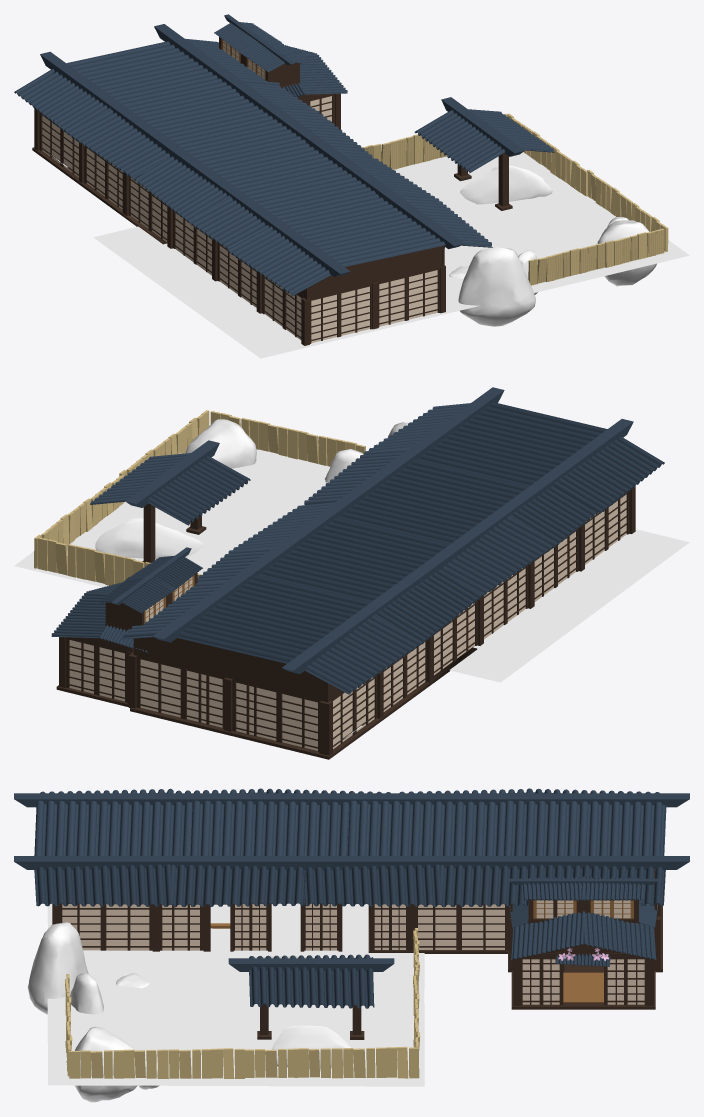
Rendered from BigOnsenHouse.fbx.
3 views of the same model, one above another, from view 1: azimuth 30°, elevation 25°; view 2: azimuth 150°, elevation 25°; view 3: azimuth 270°, elevation 25° (orthographic). The views are drawn at different scales.
Parts seen in each view (by area): view 1: BigOnsenHouse, Wate_BigOnsen_3, Wate_BigOnsen_2, Rocks_BigOnsenHouse, FenceOnsen, SmallRoof; view 2: BigOnsenHouse, Wate_BigOnsen_2, Wate_BigOnsen_3, FenceOnsen, SmallRoof, Rocks_BigOnsenHouse; view 3: BigOnsenHouse, Wate_BigOnsen_3, Wate_BigOnsen_2, FenceOnsen, Rocks_BigOnsenHouse, SmallRoof.
Boxes of the visible parts, x1,y1,x2,y2 form: BigOnsenHouse: (14, 14, 492, 345); Wate_BigOnsen_3: (393, 152, 689, 292); Wate_BigOnsen_2: (93, 226, 479, 358); Rocks_BigOnsenHouse: (449, 165, 656, 326); FenceOnsen: (361, 113, 668, 285); SmallRoof: (414, 97, 554, 210); BigOnsenHouse: (51, 387, 664, 759); Wate_BigOnsen_2: (449, 529, 689, 682); Wate_BigOnsen_3: (14, 449, 329, 587); FenceOnsen: (34, 410, 365, 585); SmallRoof: (90, 440, 250, 566); Rocks_BigOnsenHouse: (95, 419, 408, 558); BigOnsenHouse: (14, 788, 689, 1009); Wate_BigOnsen_3: (47, 988, 424, 1086); Wate_BigOnsen_2: (47, 903, 424, 989); FenceOnsen: (65, 928, 420, 1078); Rocks_BigOnsenHouse: (27, 922, 353, 1102); SmallRoof: (228, 954, 394, 1039).
Size of what is drawn, in the model's own units: 15908 by 4363 by 19271.
